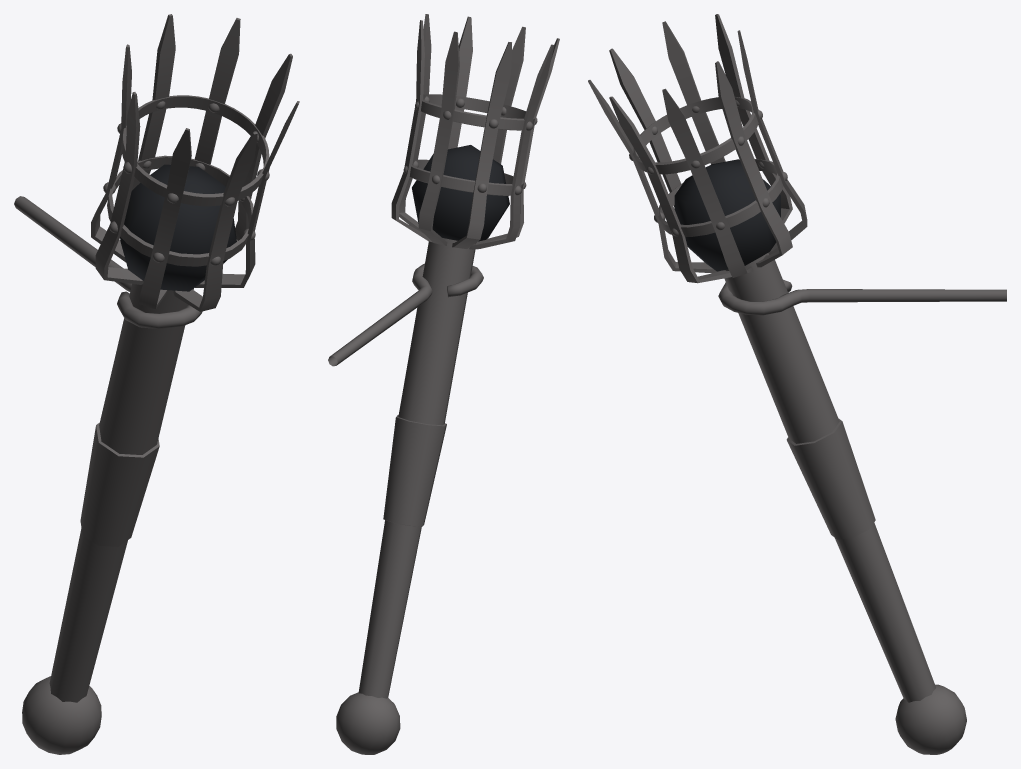
Rendered from wall_torch.gltf.
The picture shows the model from 3 angles, left to right: view 1: azimuth 30°, elevation 25°; view 2: azimuth 150°, elevation 25°; view 3: azimuth 270°, elevation 25°; orthographic projection. The views are drawn at different scales.
Parts seen in each view (by area): view 1: Torch, Sphere, Hold; view 2: Torch, Sphere, Hold; view 3: Torch, Sphere, Hold.
Boxes of the visible parts, box(x1,y1,x2,y2) form: Torch: box(22, 14, 299, 754); Sphere: box(120, 164, 236, 291); Hold: box(14, 196, 202, 328); Torch: box(336, 14, 559, 754); Sphere: box(412, 145, 509, 241); Hold: box(328, 263, 483, 366); Torch: box(588, 14, 966, 754); Sphere: box(674, 159, 780, 271); Hold: box(718, 279, 1006, 315).
Bounding box in the file's own units: 0.1409 × 0.6937 × 0.3651.
2 materials, 2 textured.
